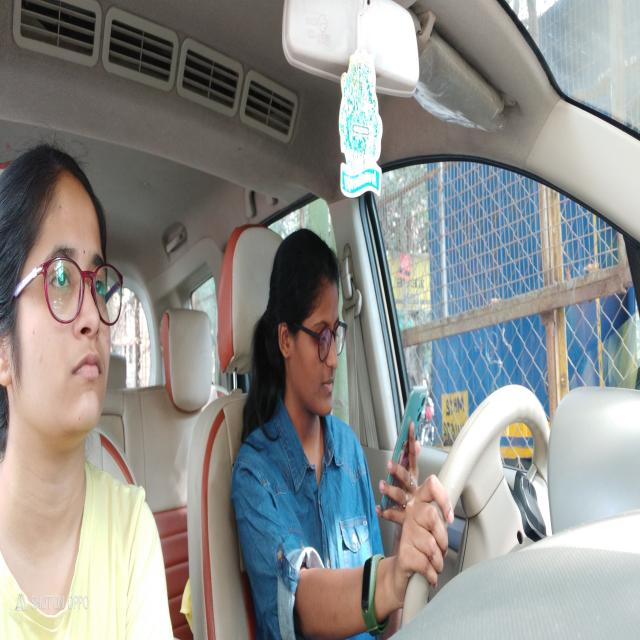mobile: (391, 381, 429, 494)
person: (2, 137, 122, 438), (272, 208, 351, 426)
